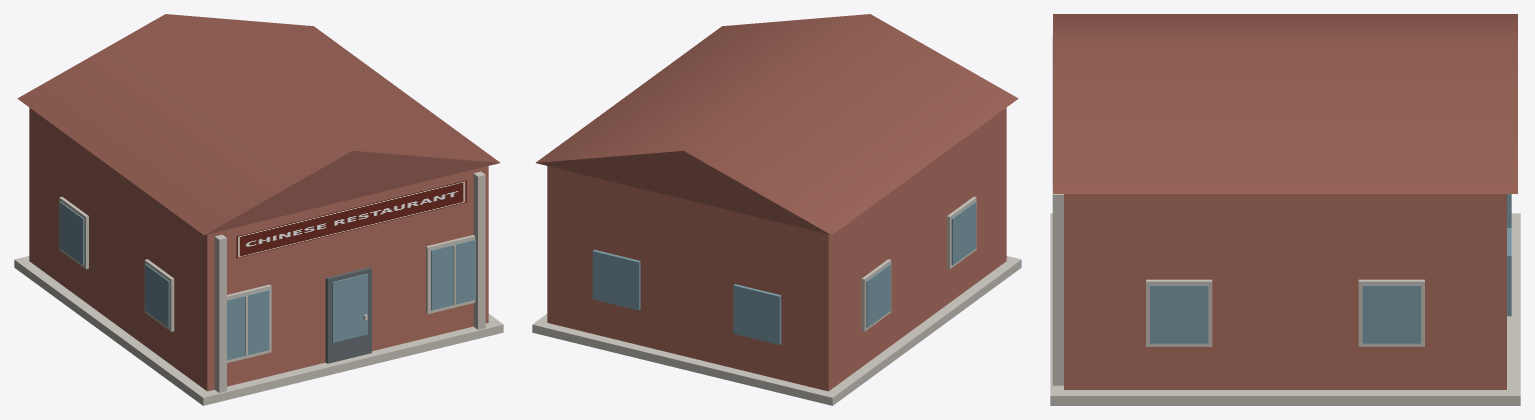
The model's file is chinese_restaurant.glb.
The picture shows the model from 3 angles, left to right: view 1: azimuth 30°, elevation 25°; view 2: azimuth 150°, elevation 25°; view 3: azimuth 270°, elevation 25°; orthographic projection. The views are drawn at different scales.
Parts seen in each view (by area): view 1: world; view 2: world; view 3: world.
Boxes of the visible parts, x1,y1,x2,y2 form: world: (14,14,503,405); world: (532,14,1021,405); world: (1050,14,1520,405).
Bounding box in the file's own units: 7.8 × 5.4 × 8.5.
Materials: 2 (1 with a texture image).
